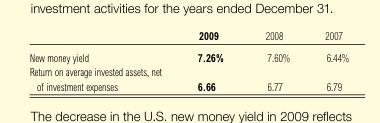table: (28, 28, 348, 92)
table column: (28, 28, 178, 92), (178, 28, 243, 92), (243, 28, 306, 92), (306, 28, 348, 92)
table column header: (28, 28, 348, 46)
table row: (28, 64, 348, 92), (28, 28, 348, 46), (28, 46, 348, 64)
